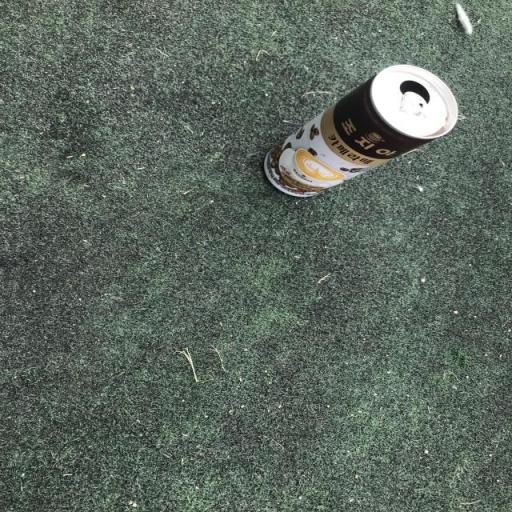metal: (232, 46, 474, 222)
